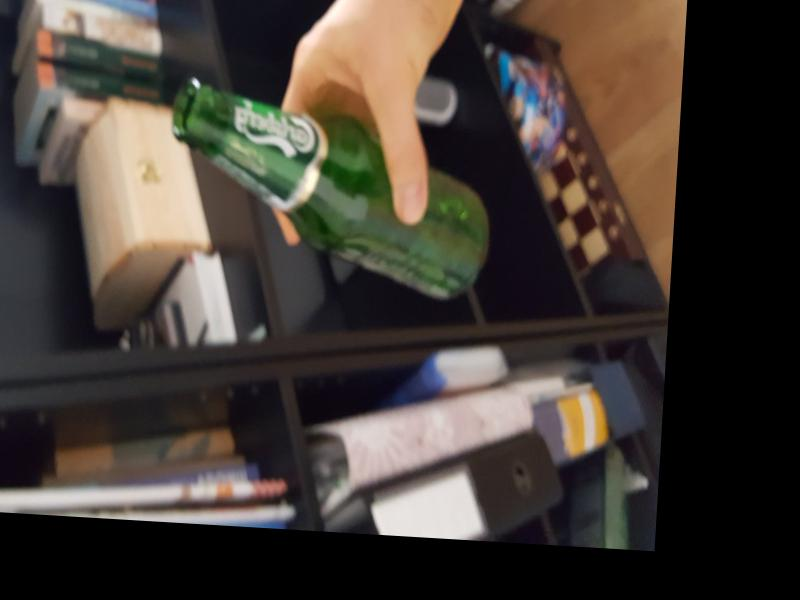Beer: (163, 81, 497, 306)
